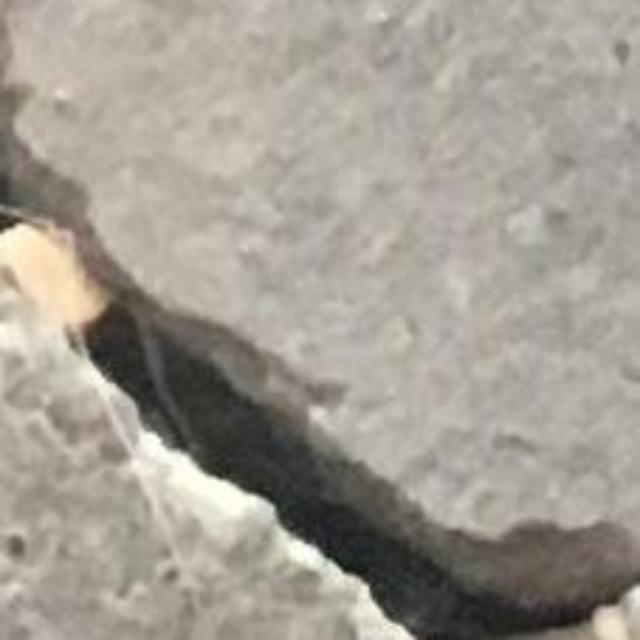crack: (0, 12, 639, 639)
